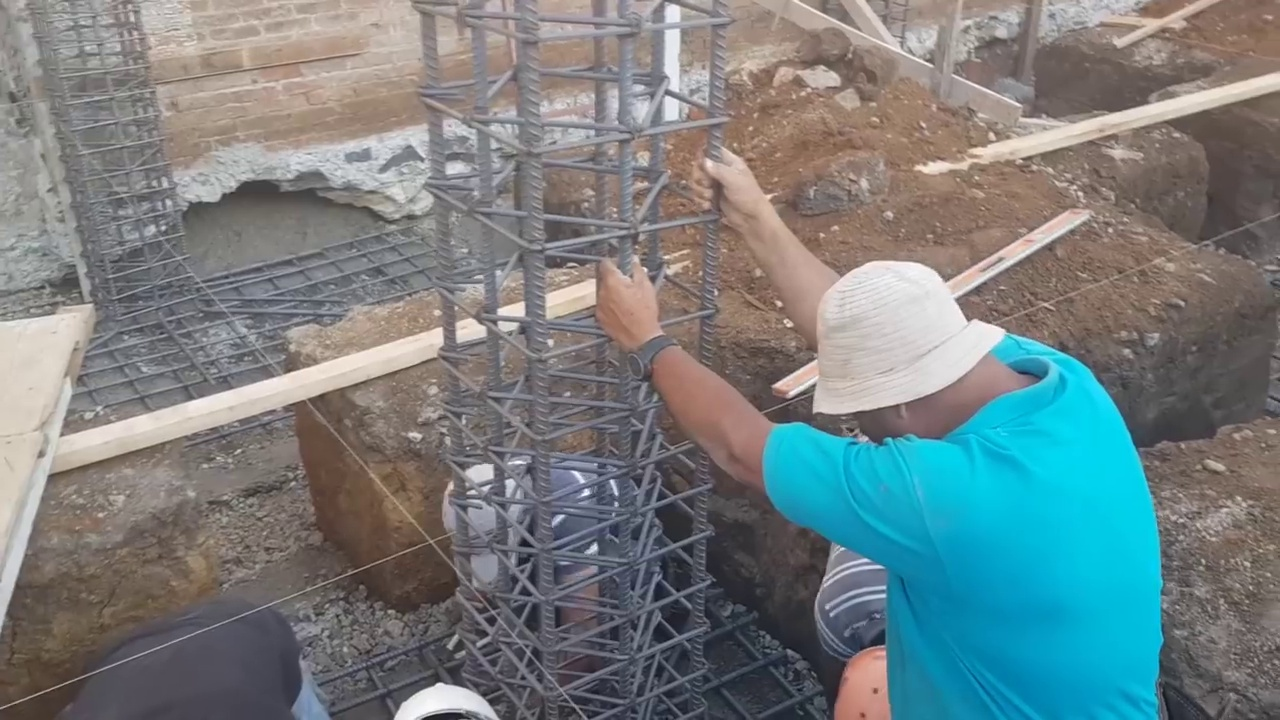helmet: (387, 674, 501, 718), (840, 642, 894, 718)
helmet-off: (798, 271, 1045, 447), (444, 459, 535, 592)
person: (608, 148, 1185, 720), (440, 450, 648, 652), (48, 603, 344, 717)
